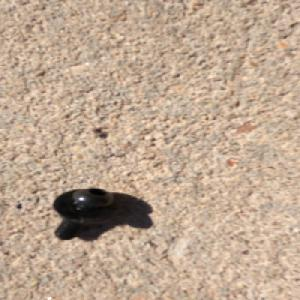BoltWasher: (52, 185, 123, 239)
